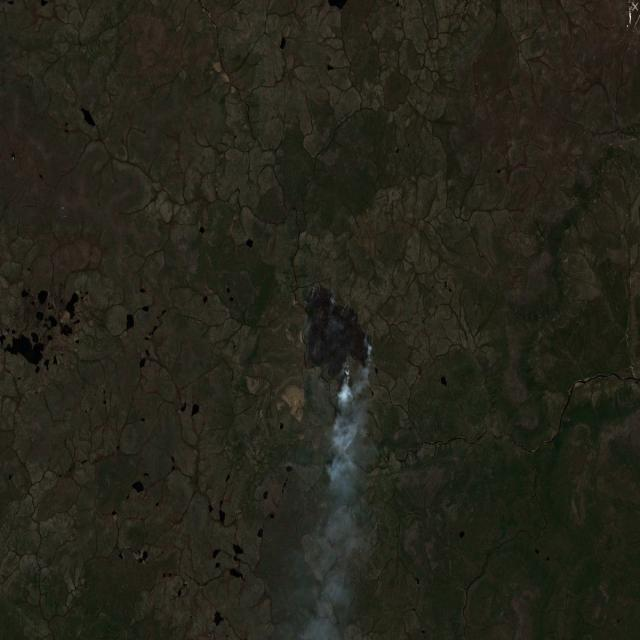fire: (299, 280, 377, 388)
